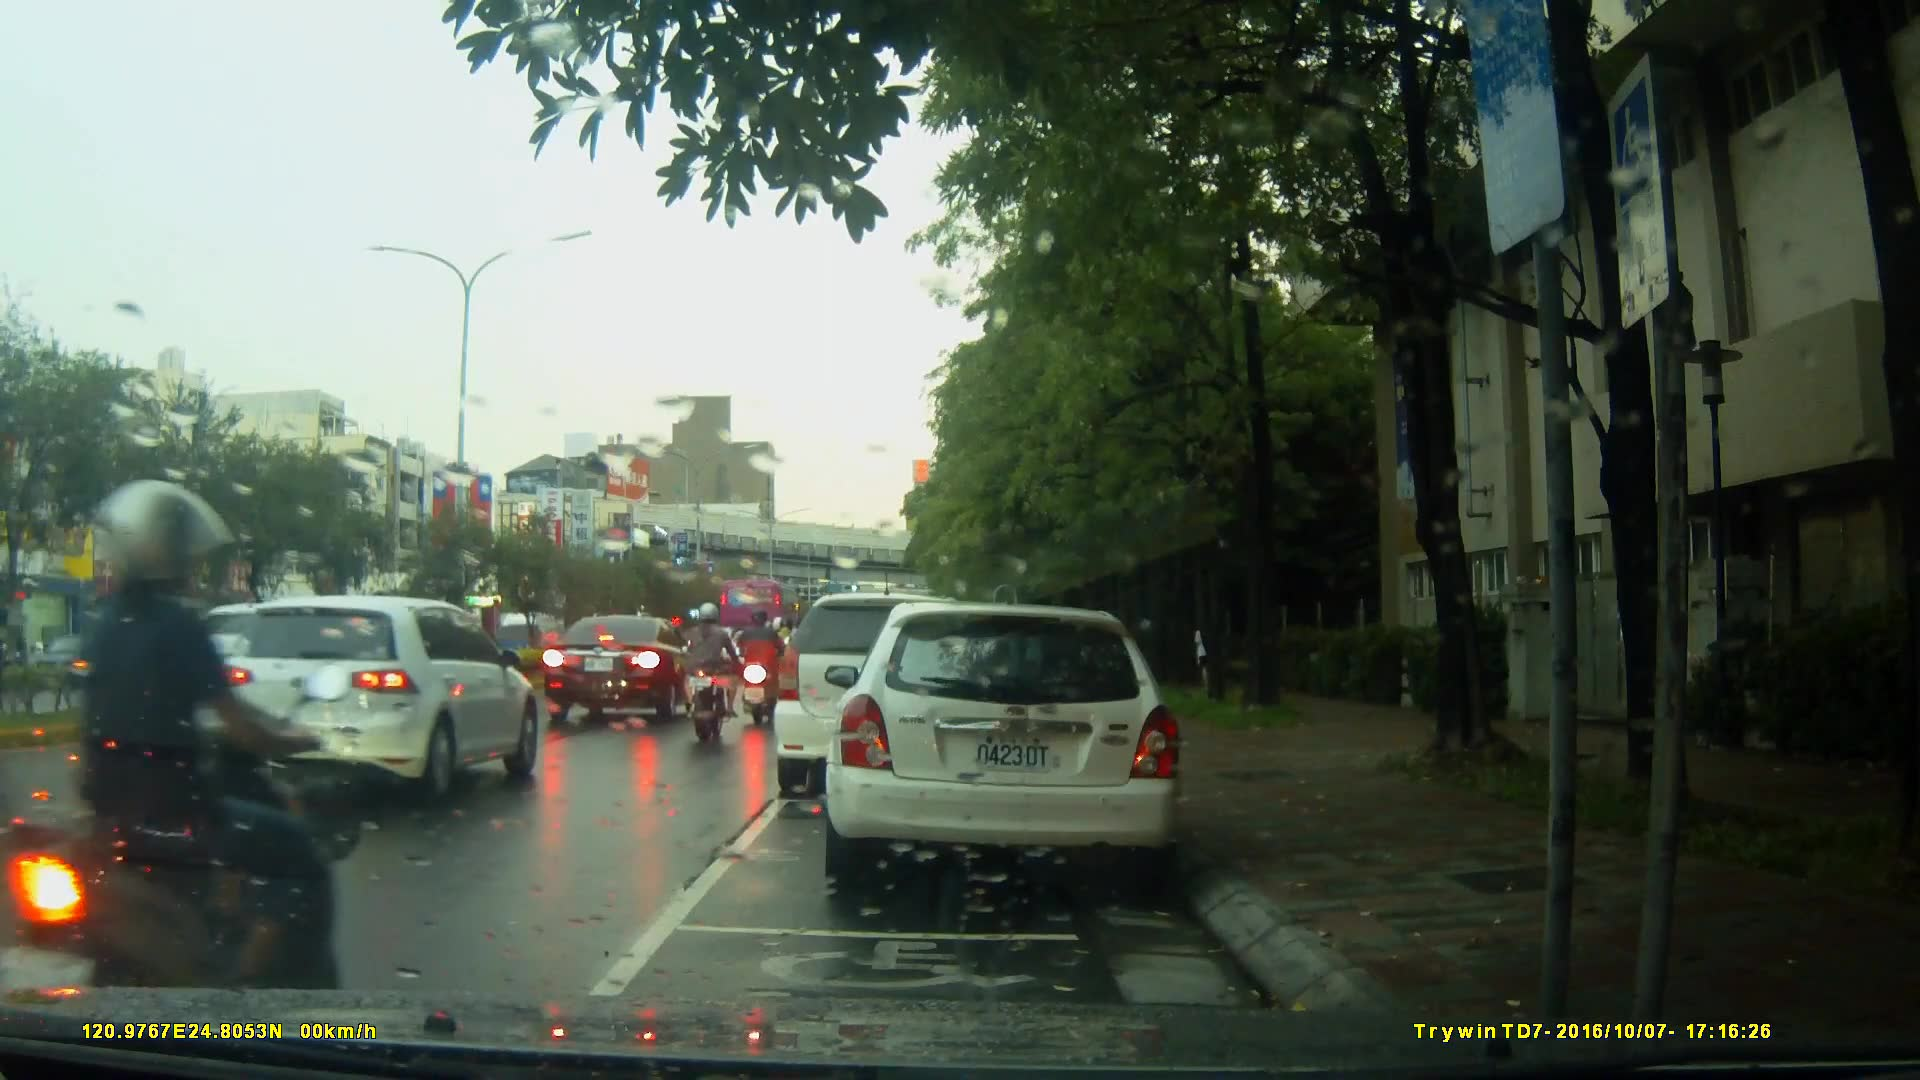rider: (21, 480, 350, 1041), (681, 601, 739, 750), (736, 604, 787, 730)
vehicle: (835, 594, 1194, 898), (203, 590, 539, 807), (776, 590, 1026, 784), (539, 612, 707, 728), (718, 578, 804, 648)
